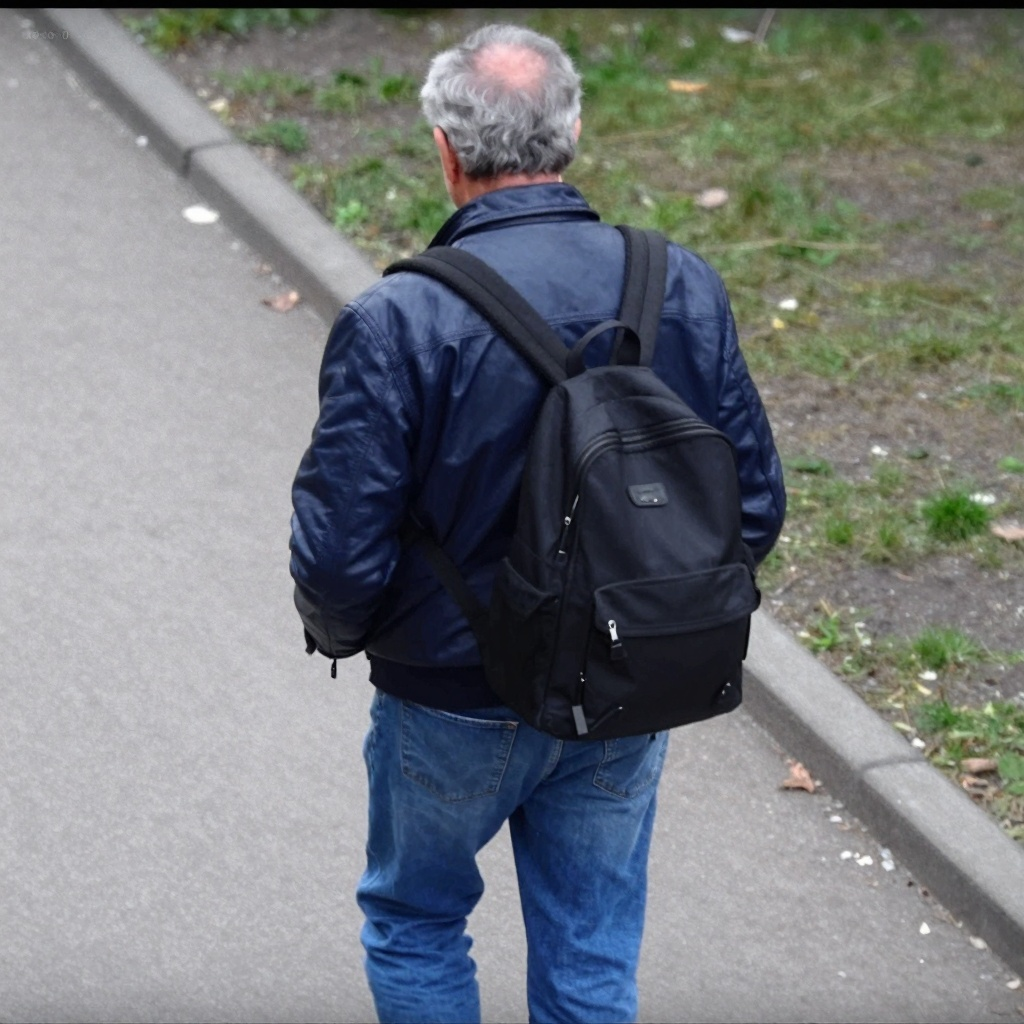Normal activity: (288, 28, 786, 1020)
